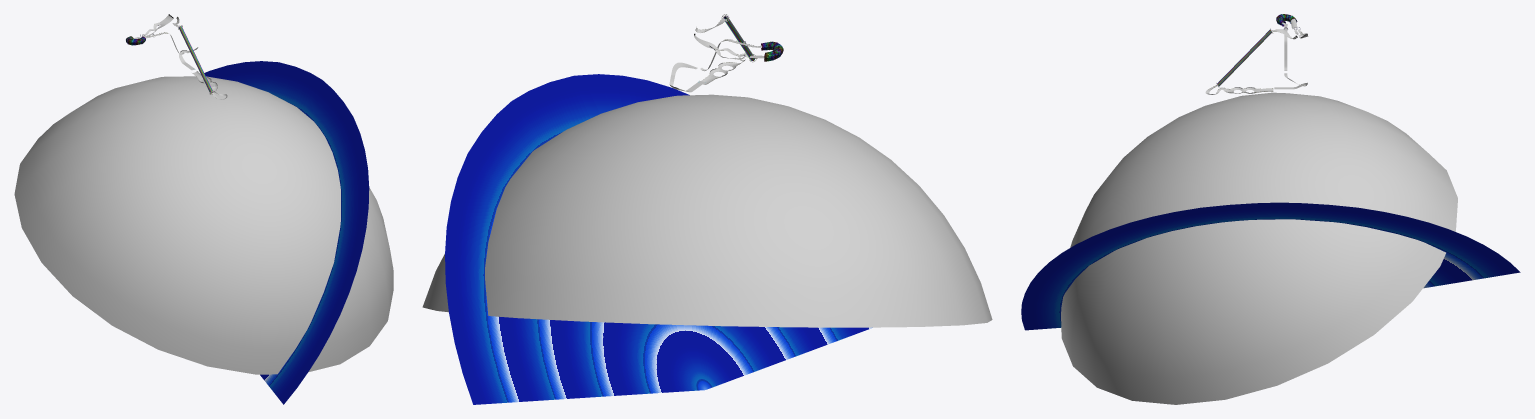
Rendered from rainbow-road-wii.obj.
3 views of the same model, side by side, from view 1: azimuth 30°, elevation 25°; view 2: azimuth 150°, elevation 25°; view 3: azimuth 270°, elevation 25° (orthographic). The views are drawn at different scales.
Parts seen in each view (by area): view 1: polygon19, polygon20, polygon100; view 2: polygon19, polygon20, polygon100; view 3: polygon19, polygon20, polygon100.
Boxes of the visible parts, x1,y1,x2,y2 form: polygon19: [14, 76, 393, 374]; polygon20: [204, 61, 369, 404]; polygon100: [133, 15, 227, 99]; polygon19: [422, 94, 992, 327]; polygon20: [445, 74, 872, 404]; polygon100: [669, 18, 764, 92]; polygon19: [1061, 92, 1457, 404]; polygon20: [1021, 202, 1520, 330]; polygon100: [1205, 19, 1308, 94].
Size of the model in its own units: 3354 by 2738 by 4012.
